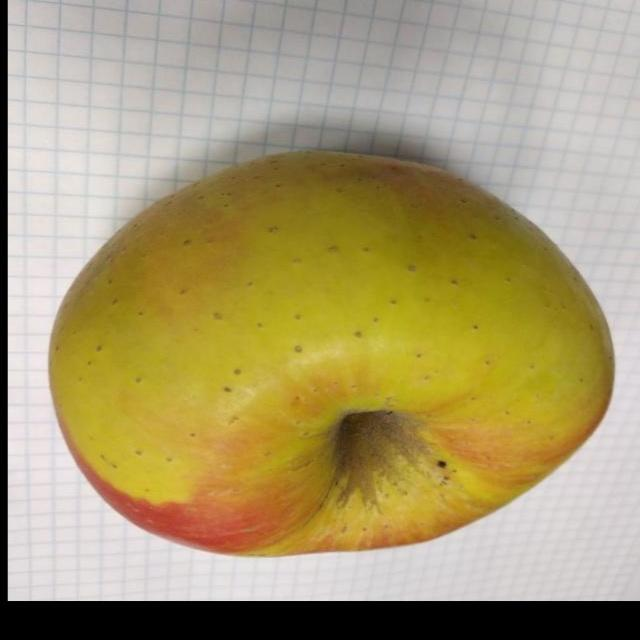green apple: (39, 132, 600, 559)
